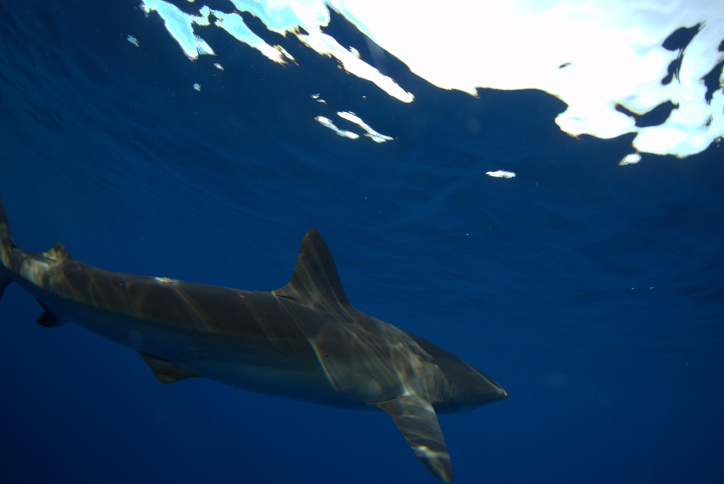Sedoso: (1, 174, 535, 483)
